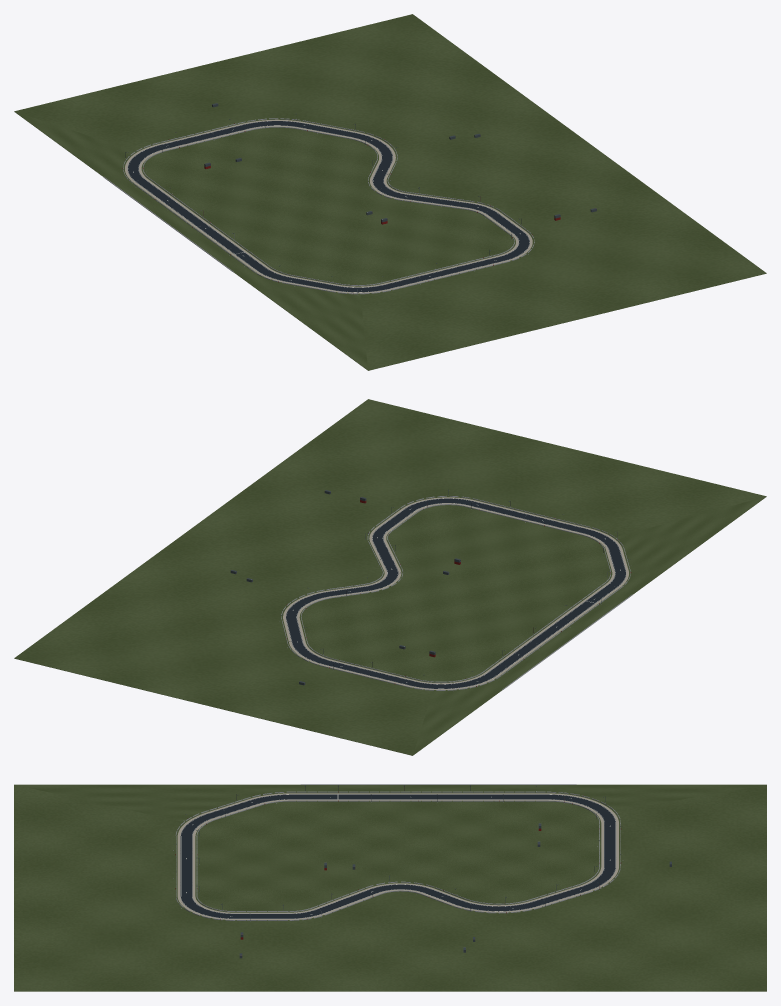
Rendered from foundation.glb.
3 views of the same model, one above another, from view 1: azimuth 30°, elevation 25°; view 2: azimuth 150°, elevation 25°; view 3: azimuth 270°, elevation 25° (orthographic). The views are drawn at different scales.
Parts seen in each view (by area): view 1: foundation_Harbor_Land_('global',), foundation_Showcase_Dry_Asphalt_('global',), foundation_Harbor_Concrete_('global',), foundation_Harbor_Runoff_('global',); view 2: foundation_Harbor_Land_('global',), foundation_Showcase_Dry_Asphalt_('global',), foundation_Harbor_Runoff_('global',), foundation_Harbor_Concrete_('global',); view 3: foundation_Harbor_Land_('global',), foundation_Showcase_Dry_Asphalt_('global',), foundation_Harbor_Concrete_('global',), foundation_Harbor_Runoff_('global',).
Boxes of the visible parts, <box> form: foundation_Harbor_Land_('global',): <box>14,14,766,370</box>; foundation_Showcase_Dry_Asphalt_('global',): <box>128,121,529,292</box>; foundation_Harbor_Concrete_('global',): <box>123,118,534,294</box>; foundation_Harbor_Runoff_('global',): <box>125,119,532,293</box>; foundation_Harbor_Land_('global',): <box>14,399,766,755</box>; foundation_Showcase_Dry_Asphalt_('global',): <box>286,498,625,688</box>; foundation_Harbor_Runoff_('global',): <box>283,497,628,690</box>; foundation_Harbor_Concrete_('global',): <box>281,496,630,690</box>; foundation_Harbor_Land_('global',): <box>14,784,766,991</box>; foundation_Showcase_Dry_Asphalt_('global',): <box>180,794,615,918</box>; foundation_Harbor_Concrete_('global',): <box>175,791,620,920</box>; foundation_Harbor_Runoff_('global',): <box>177,793,618,919</box>.
Size of the model in its own units: 468 by 7.52 by 720.
7 materials, 4 textured.
